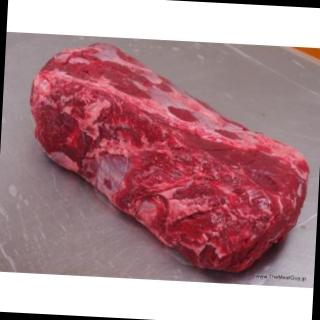Daging Sapi: (22, 40, 317, 279)
